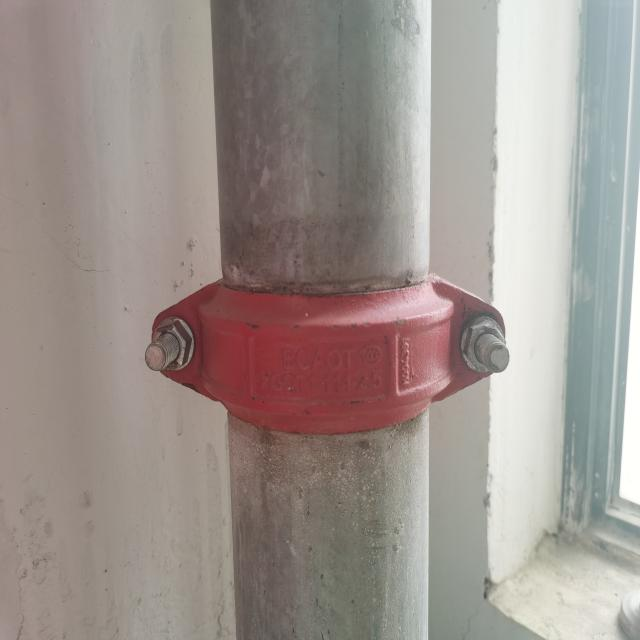bolt nut: (461, 314, 509, 376), (150, 315, 193, 375)
